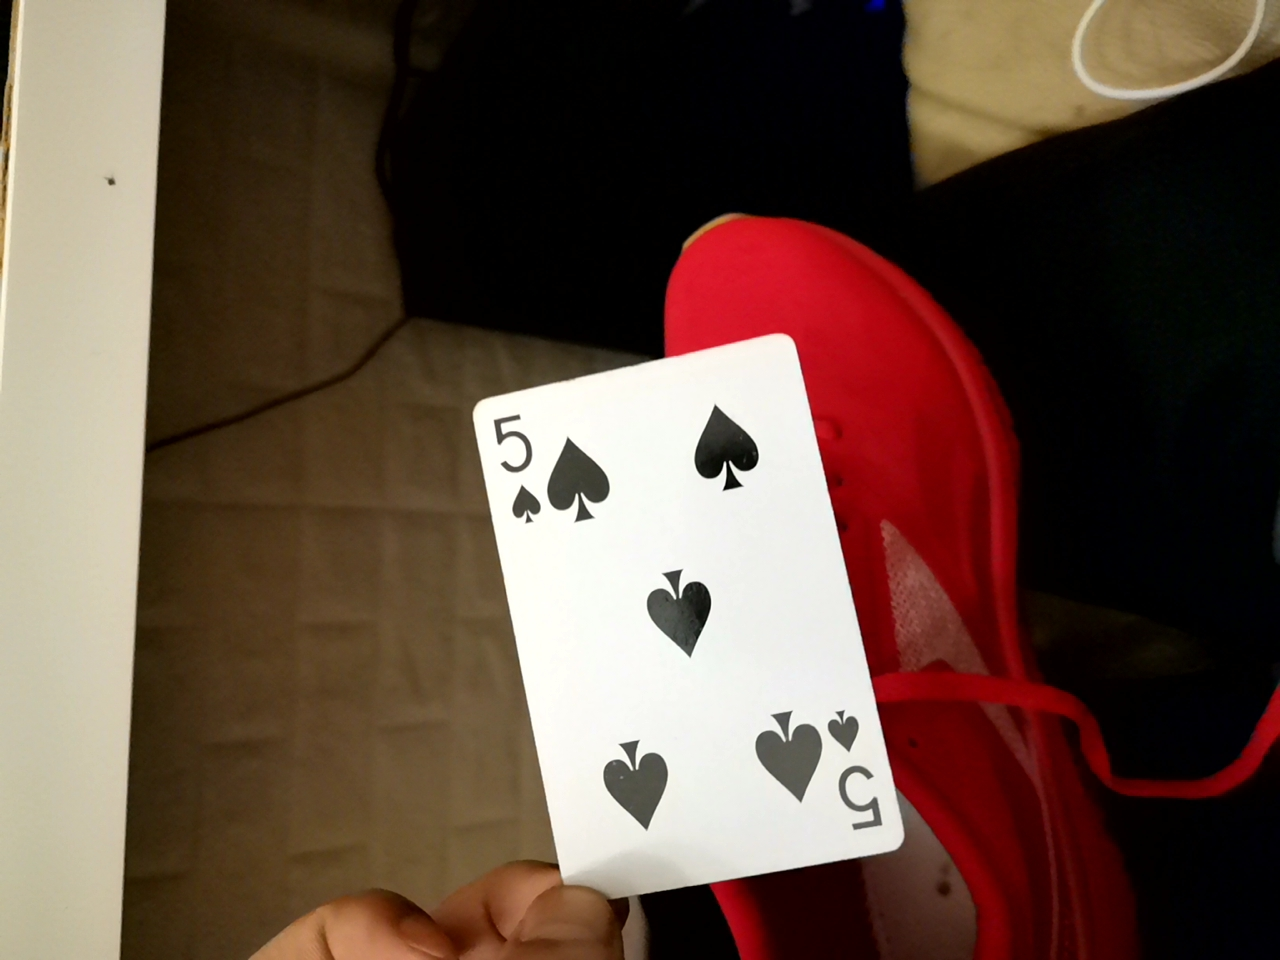ht 5: (472, 329, 895, 894)
